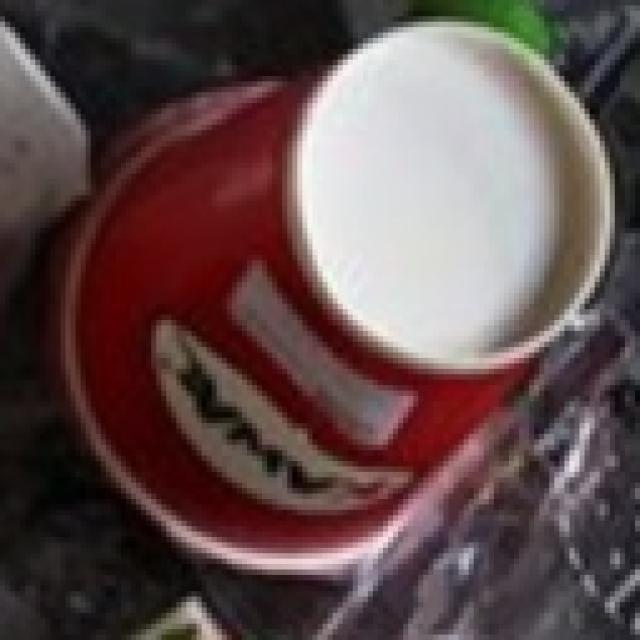plastic cup: (70, 0, 640, 564)
